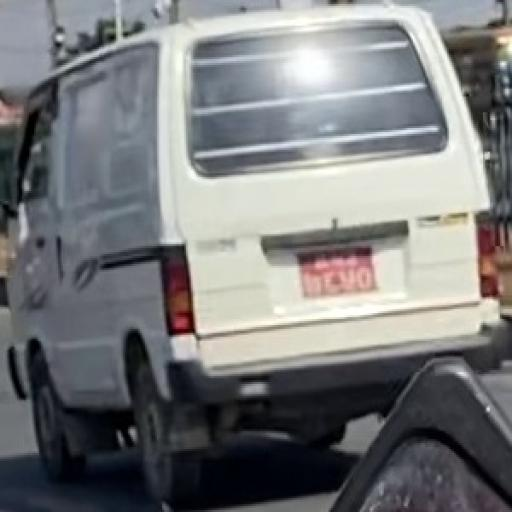license_plate: (294, 241, 385, 306)
